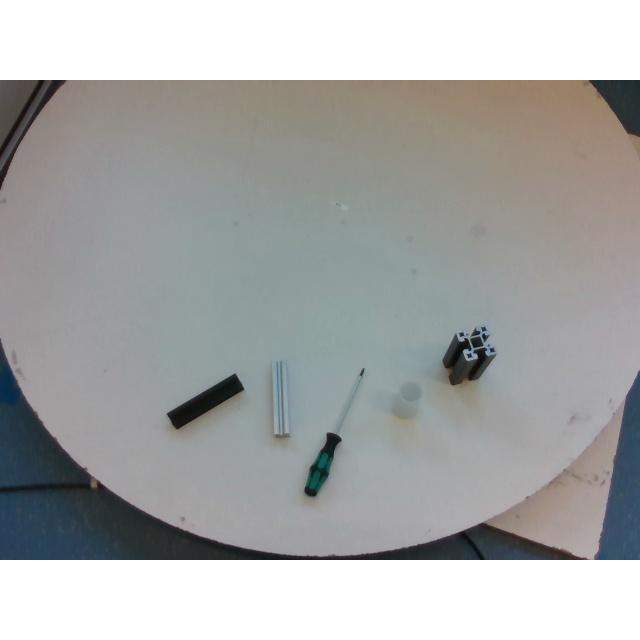F20_20_B: (167, 374, 243, 428)
F20_20_G: (272, 360, 288, 436)
S40_40_B: (444, 324, 496, 384)
Screwdriver: (304, 368, 364, 494)
Spacer: (391, 382, 421, 418)
